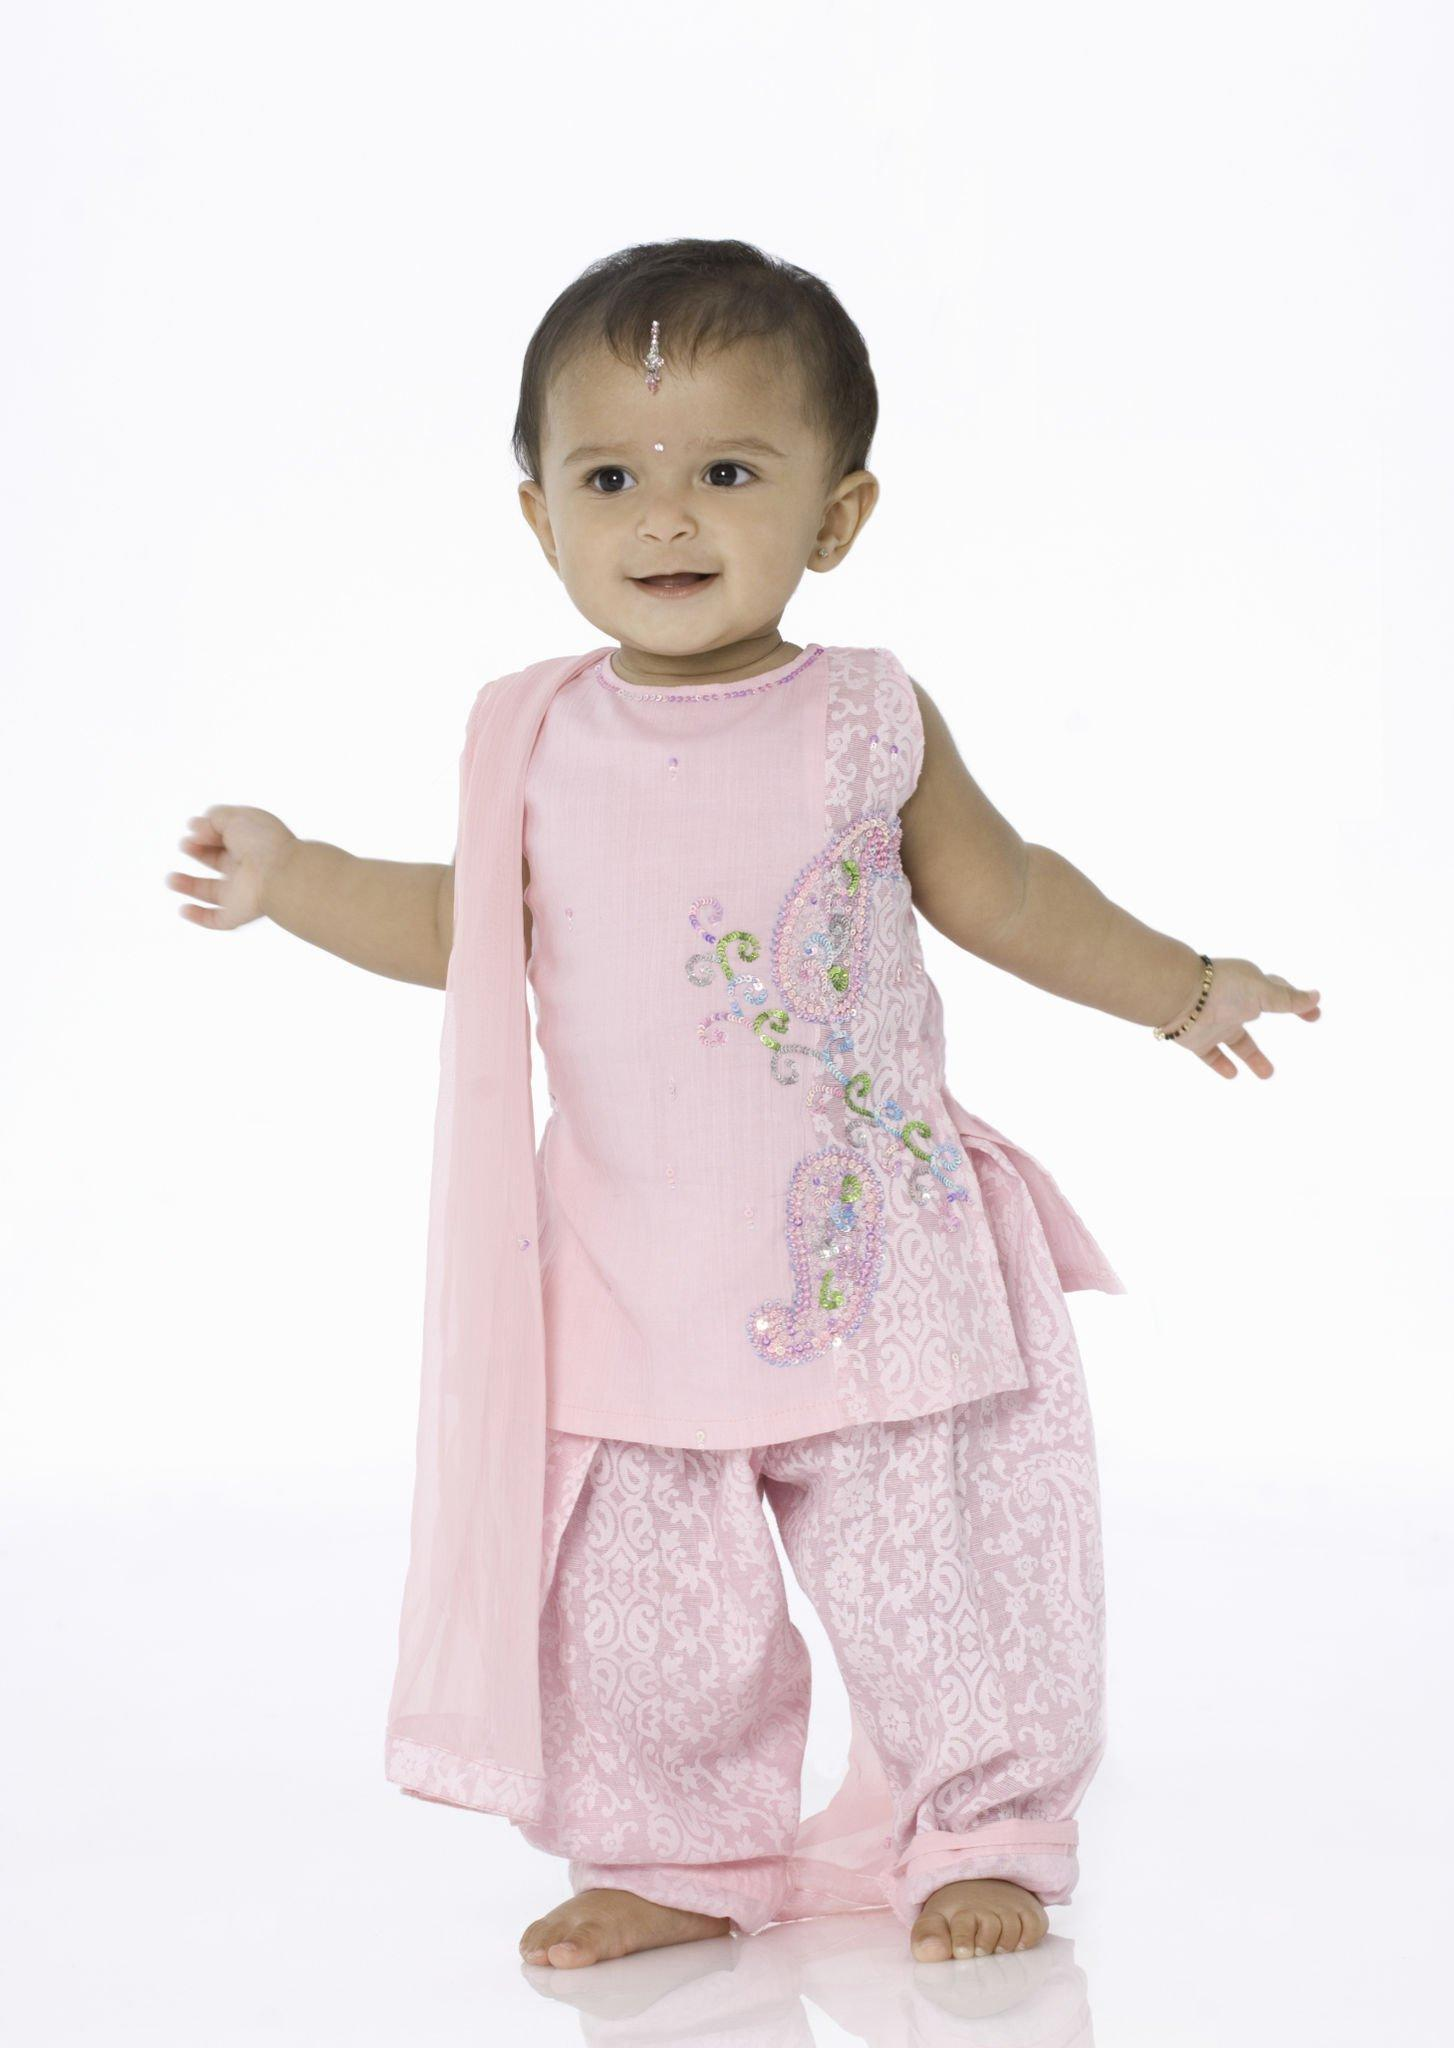Healthy: (472, 252, 897, 692)
